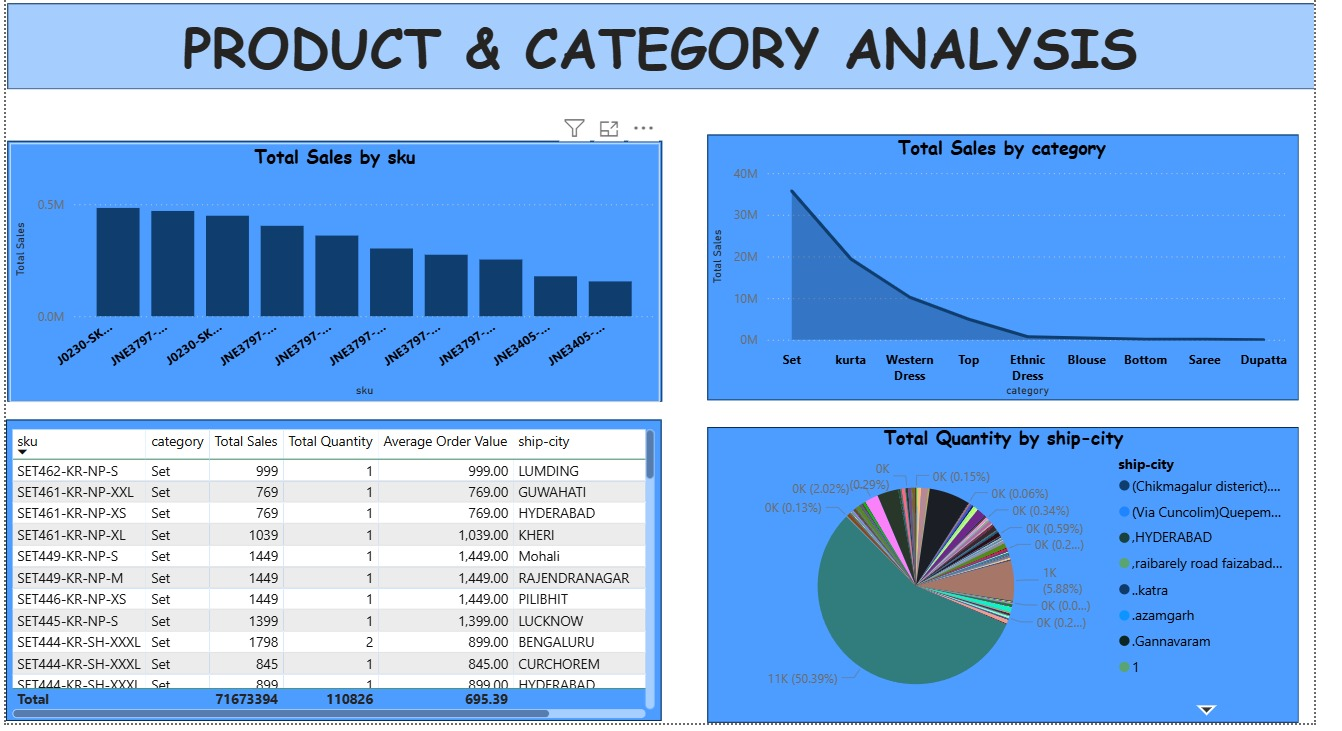

The dashboard page shown, as its layout file describes it:
{"tool":"powerbi","page":{"name":"Page 2","canvas":[1280,720],"ordinal":1},"visuals":[{"type":"group","id":"g1","title":"Back","box":[-0.3,16.4,1281.2,703.4],"z":0},{"type":"textbox","box":[4.3,16.4,1270.5,84.4],"z":1000},{"type":"tableEx","fields":{"Values":["amazon_sales_sql_ready.sku","amazon_sales_sql_ready.category","amazon_sales_sql_ready.Total Sales","amazon_sales_sql_ready.Total Quantity","amazon_sales_sql_ready.Average Order Value","amazon_sales_sql_ready.ship-city","amazon_sales_sql_ready.Total Orders"]},"box":[0,428,639.5,292.3],"z":2000},{"type":"areaChart","fields":{"Category":["amazon_sales_sql_ready.category"],"Y":["amazon_sales_sql_ready.Total Sales"]},"box":[686.5,144.8,576.7,261.8],"z":3000},{"type":"columnChart","fields":{"Category":["amazon_sales_sql_ready.sku"],"Y":["amazon_sales_sql_ready.Total Sales"]},"box":[4.2,153,635.8,253.2],"z":4000},{"type":"shape","box":[0.6,16.4,1280.3,84.4],"z":5000,"group":"g1"},{"type":"pieChart","fields":{"Y":["amazon_sales_sql_ready.Total Quantity"],"Series":["amazon_sales_sql_ready.ship-city"]},"box":[687.2,428,577.2,292.3],"z":5000},{"type":"shape","box":[0.6,150.9,640.8,255.6],"z":6000,"group":"g1"},{"type":"shape","box":[-0.3,423.5,641.4,295],"z":7000,"group":"g1"},{"type":"shape","box":[685.6,145.2,578.8,260.2],"z":8000,"group":"g1"},{"type":"shape","box":[685.6,430.4,578.8,289.4],"z":9000,"group":"g1"}]}

Visuals, with their boxes on the page's 1280x720 design canvas (x1, y1, x2, y2). These are canvas units, not pixel positions in the 1342x731 screenshot, which may show the page scaled, cropped or inside an application window:
"Back" group: (0,16,1281,720)
textbox: (4,16,1275,101)
tableEx - amazon_sales_sql_ready.sku x amazon_sales_sql_ready.category: (0,428,640,720)
areaChart - amazon_sales_sql_ready.category x amazon_sales_sql_ready.Total Sales: (686,145,1263,407)
columnChart - amazon_sales_sql_ready.sku x amazon_sales_sql_ready.Total Sales: (4,153,640,406)
shape: (1,16,1281,101)
pieChart - amazon_sales_sql_ready.Total Quantity x amazon_sales_sql_ready.ship-city: (687,428,1264,720)
shape: (1,151,641,406)
shape: (0,424,641,718)
shape: (686,145,1264,405)
shape: (686,430,1264,720)
